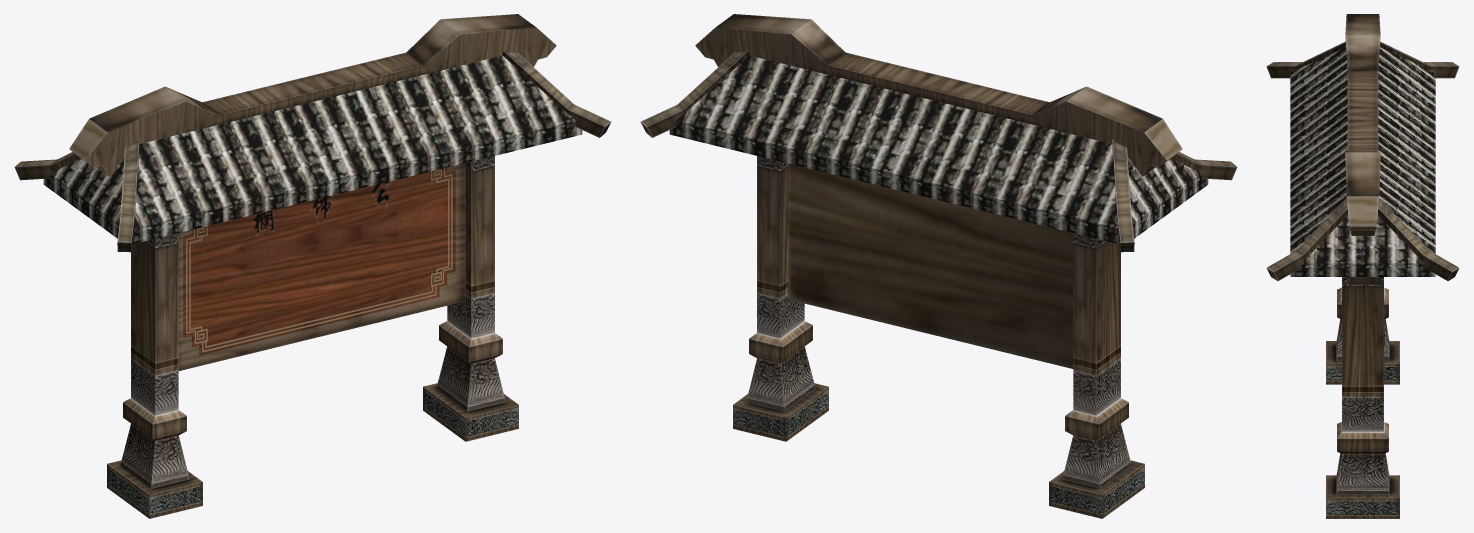
File: SongCity_Block_obj01.FBX
3 views of the same model, side by side, from view 1: azimuth 30°, elevation 25°; view 2: azimuth 150°, elevation 25°; view 3: azimuth 270°, elevation 25° (orthographic). The views are drawn at different scales.
Visible parts, largest first — view 1: Object001; view 2: Object001; view 3: Object001.
Boxes of the visible parts, x1,y1,x2,y2 form: Object001: (14, 14, 611, 518); Object001: (640, 14, 1237, 518); Object001: (1266, 14, 1459, 518).
Bounding box in the file's own units: 232 × 178 × 90.
2 materials, 2 textured.
